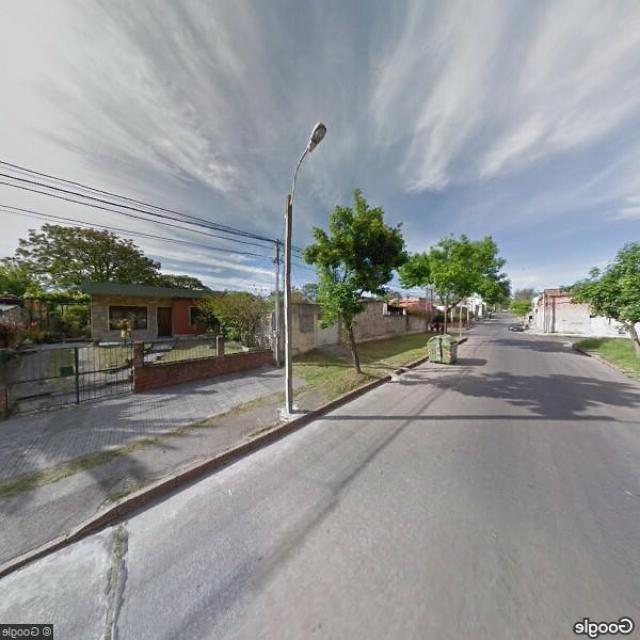garbage container: (417, 330, 468, 367)
